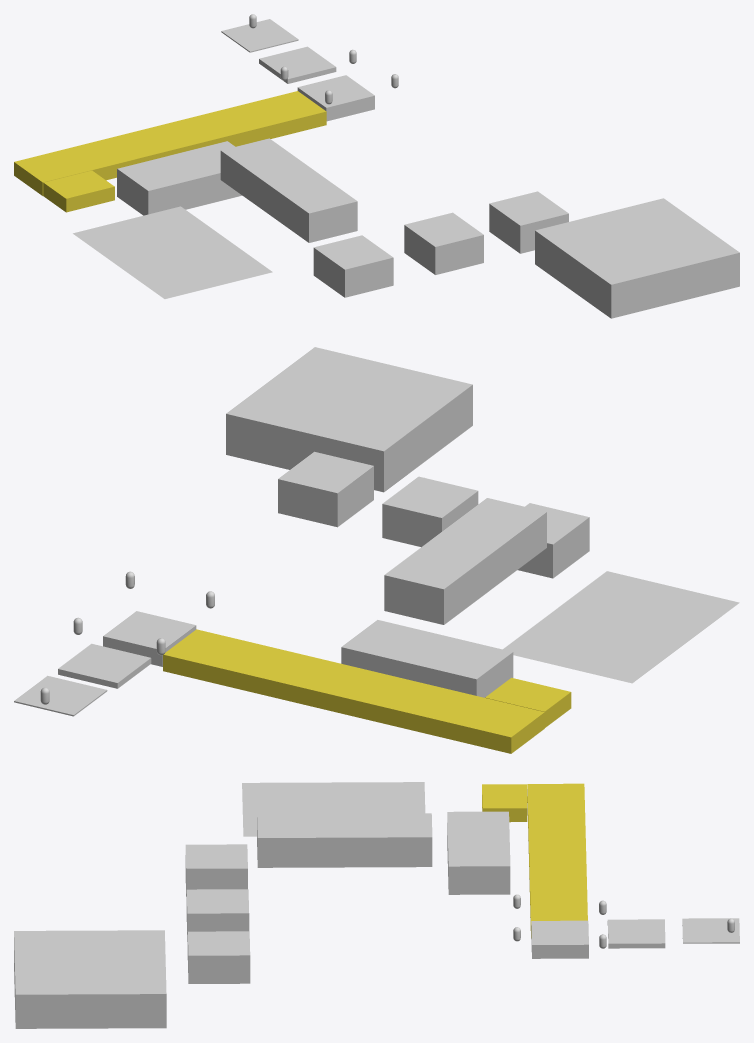
The model's file is Levelv1.fbx.
3 renders of one model, top to bottom at view 1: azimuth 30°, elevation 25°; view 2: azimuth 150°, elevation 25°; view 3: azimuth 270°, elevation 25°, orthographic. The views are drawn at different scales.
Visible parts, largest first — view 1: Bridge__10_, Bridge, Plane, Bridge__2_, Bridge__9_, Bridge__6_, Bridge__7_, Bridge__8_, Bridge__1_, Cube__2_, platform_2, Cube; view 2: Bridge__10_, Bridge, Plane, Bridge__2_, Bridge__9_, Bridge__8_, Bridge__7_, Bridge__6_, Cube__2_, platform_2, Bridge__1_, Cube; view 3: Bridge__10_, Bridge__2_, Bridge, Plane, Bridge__9_, Bridge__8_, Bridge__6_, Bridge__7_, Cube__2_, platform_2, Bridge__1_, Cube.
Part boxes in pixels (box(x1,y1,x2,y2)): Bridge__10_: box(535, 198, 739, 318); Bridge: box(14, 91, 326, 195); Plane: box(73, 206, 272, 298); Bridge__2_: box(220, 138, 357, 242); Bridge__9_: box(117, 141, 241, 215); Bridge__6_: box(313, 235, 393, 297); Bridge__7_: box(404, 212, 483, 274); Bridge__8_: box(489, 191, 568, 253); Bridge__1_: box(43, 170, 114, 212); Cube__2_: box(297, 75, 374, 121); platform_2: box(259, 46, 336, 83); Cube: box(221, 19, 298, 52); Bridge__10_: box(226, 347, 472, 492); Bridge: box(163, 629, 544, 753); Plane: box(503, 571, 739, 683); Bridge__2_: box(384, 498, 546, 624); Bridge__9_: box(341, 620, 513, 697); Bridge__8_: box(278, 451, 373, 527); Bridge__7_: box(382, 476, 478, 547); Bridge__6_: box(518, 503, 589, 578); Cube__2_: box(103, 611, 196, 666); platform_2: box(58, 643, 151, 688); Bridge__1_: box(485, 677, 571, 727); Cube: box(14, 675, 107, 716); Bridge__10_: box(14, 930, 166, 1028); Bridge__2_: box(257, 813, 432, 867); Bridge: box(527, 783, 587, 937); Plane: box(242, 782, 425, 836); Bridge__9_: box(447, 811, 510, 894); Bridge__8_: box(187, 931, 250, 983); Bridge__6_: box(185, 844, 247, 896); Bridge__7_: box(186, 889, 249, 941); Cube__2_: box(531, 920, 588, 958); platform_2: box(607, 919, 665, 948); Bridge__1_: box(482, 784, 527, 822); Cube: box(682, 918, 739, 943).
Bounding box in the file's own units: 7172 × 904 × 9623.
